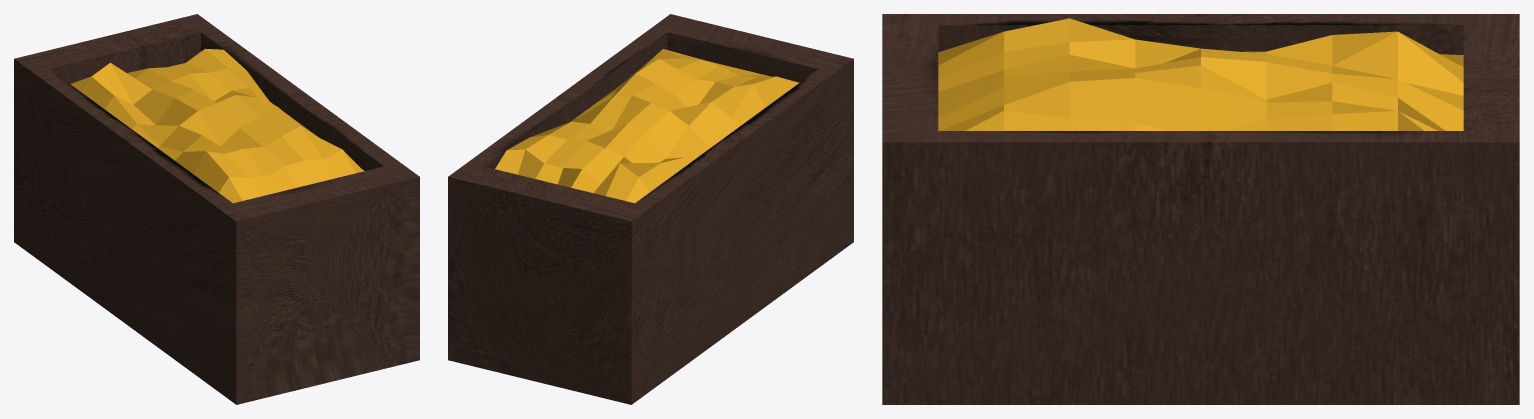
File: P_TreasureChestB.gltf
3 views of the same model, side by side, from view 1: azimuth 30°, elevation 25°; view 2: azimuth 150°, elevation 25°; view 3: azimuth 270°, elevation 25° (orthographic). The views are drawn at different scales.
Parts seen in each view (by area): view 1: Cube; view 2: Cube; view 3: Cube.
Boxes of the visible parts, x1=… form: Cube: x1=14, y1=14, x2=419, y2=404; Cube: x1=448, y1=14, x2=853, y2=404; Cube: x1=882, y1=14, x2=1519, y2=404.
Bounding box in the file's own units: 2 × 2.11 × 4.2.
2 materials, 1 textured.
